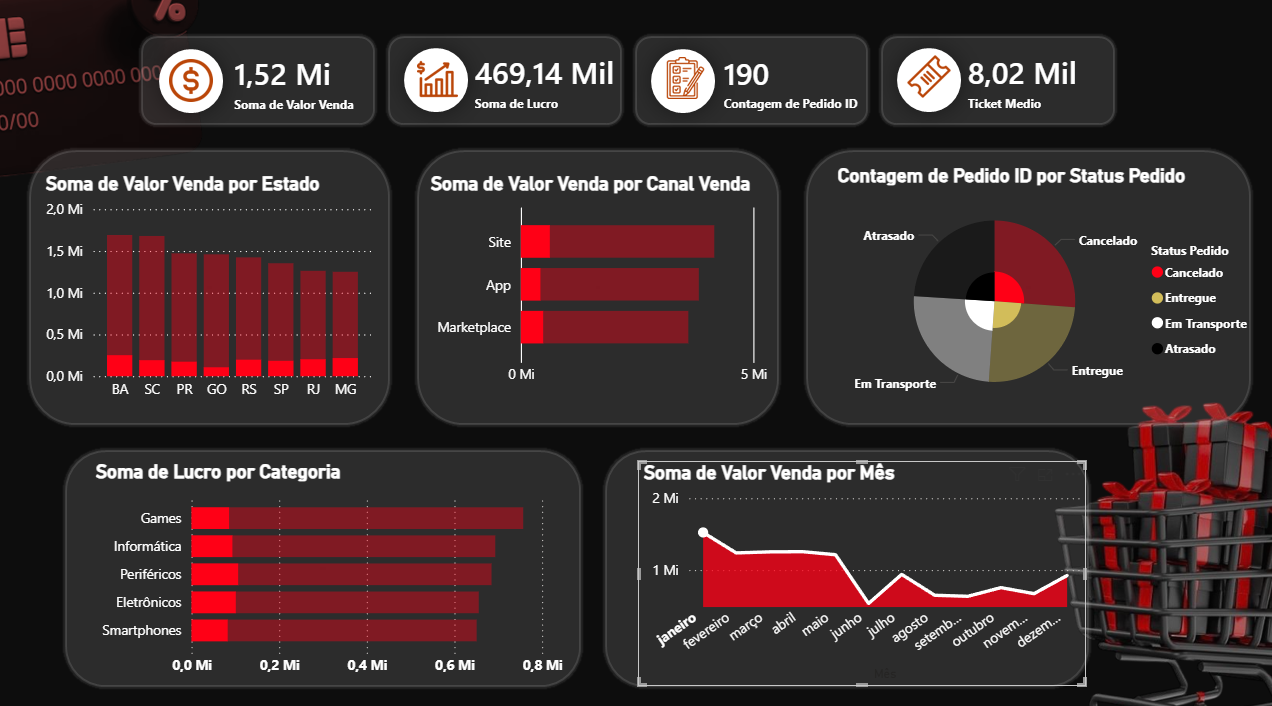

The dashboard page shown, as its layout file describes it:
{"tool":"powerbi","page":{"name":"Página 1","canvas":[1280,720],"ordinal":0},"visuals":[{"type":"cardVisual","fields":{"Data":["Sum(Ecommerce.Valor_Venda)"]},"box":[278.4,73.6,201.3,90.4],"z":0},{"type":"cardVisual","fields":{"Data":["Sum(Ecommerce.Lucro)"]},"box":[479.7,58.5,185.3,119.7],"z":1000},{"type":"cardVisual","fields":{"Data":["CountNonNull(Ecommerce.Pedido_ID)"]},"box":[700.5,45.2,249.2,146.3],"z":2000},{"type":"cardVisual","fields":{"Data":["Ecommerce.Ticket Medio"]},"box":[916.8,23.9,336.9,188.9],"z":3000},{"type":"lineClusteredColumnComboChart","title":"Soma de Valor Venda por Estado","fields":{"Category":["Ecommerce.Estado"],"Y":["Sum(Ecommerce.Valor_Venda)"]},"box":[123.3,198.6,298.8,211],"z":4000},{"type":"barChart","fields":{"Category":["Ecommerce.Categoria"],"Y":["Sum(Ecommerce.Lucro)"]},"box":[167.6,454,423.8,200.4],"z":5000},{"type":"pieChart","fields":{"Category":["Ecommerce.Status_Pedido"],"Y":["CountNonNull(Ecommerce.Pedido_ID)"]},"box":[825.5,191.5,382.2,224.3],"z":6000},{"type":"barChart","fields":{"Category":["Ecommerce.Canal_Venda"],"Y":["Sum(Ecommerce.Valor_Venda)"]},"box":[464.6,198.6,349.4,197.7],"z":7000},{"type":"areaChart","title":"Soma de Valor Venda por Mês","fields":{"Category":["Ecommerce.Data_Pedido.Variation.Hierarquia de datas.Mês"],"Y":["Sum(Ecommerce.Valor_Venda)"]},"box":[653.5,454.9,397.2,199.5],"z":8001}]}

Visuals, with their boxes in screenshot pixels (x1, y1, x2, y2), scaled from the page's 1280x720 canvas onto the 1272x706 screenshot:
cardVisual - Sum(Ecommerce.Valor_Venda): [277, 72, 477, 161]
cardVisual - Sum(Ecommerce.Lucro): [477, 57, 661, 175]
cardVisual - CountNonNull(Ecommerce.Pedido_ID): [696, 44, 944, 188]
cardVisual - Ecommerce.Ticket Medio: [911, 23, 1246, 209]
"Soma de Valor Venda por Estado" lineClusteredColumnComboChart: [123, 195, 419, 402]
barChart - Ecommerce.Categoria x Sum(Ecommerce.Lucro): [167, 445, 588, 642]
pieChart - Ecommerce.Status_Pedido x CountNonNull(Ecommerce.Pedido_ID): [820, 188, 1200, 408]
barChart - Ecommerce.Canal_Venda x Sum(Ecommerce.Valor_Venda): [462, 195, 809, 389]
"Soma de Valor Venda por Mês" areaChart: [649, 446, 1044, 642]
